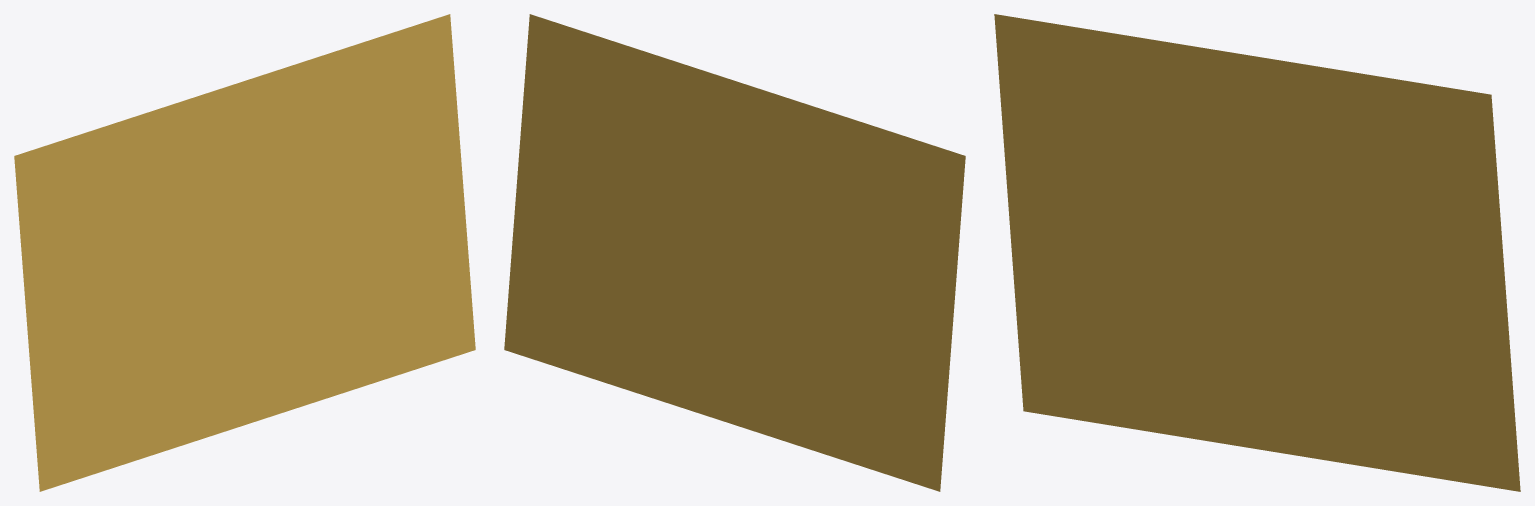
File: flame.001.fbx
The picture shows the model from 3 angles, left to right: view 1: azimuth 30°, elevation 25°; view 2: azimuth 150°, elevation 25°; view 3: azimuth 330°, elevation 25°; orthographic projection. The views are drawn at different scales.
Visible parts, largest first — view 1: flame.001; view 2: flame.001; view 3: flame.001.
Part boxes in pixels (box(x1,y1,x2,y2)): flame.001: box(14, 14, 475, 491); flame.001: box(504, 14, 965, 491); flame.001: box(994, 14, 1520, 491).
Size of the model in its own units: 16.14 by 12.62 by 5.01e-07.
